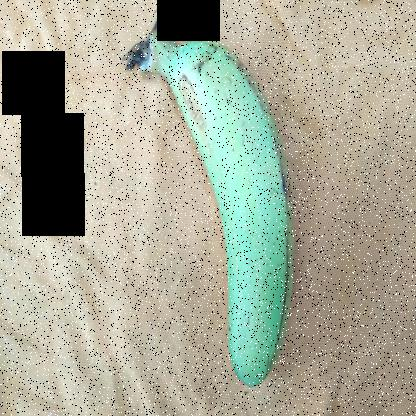ripe: (154, 27, 298, 400)
